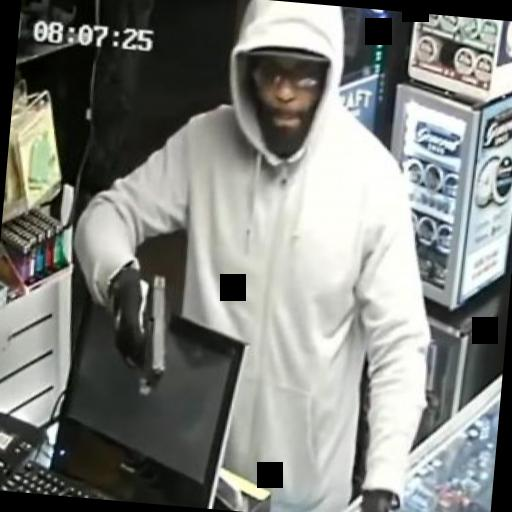Handgun: (100, 262, 180, 398)
